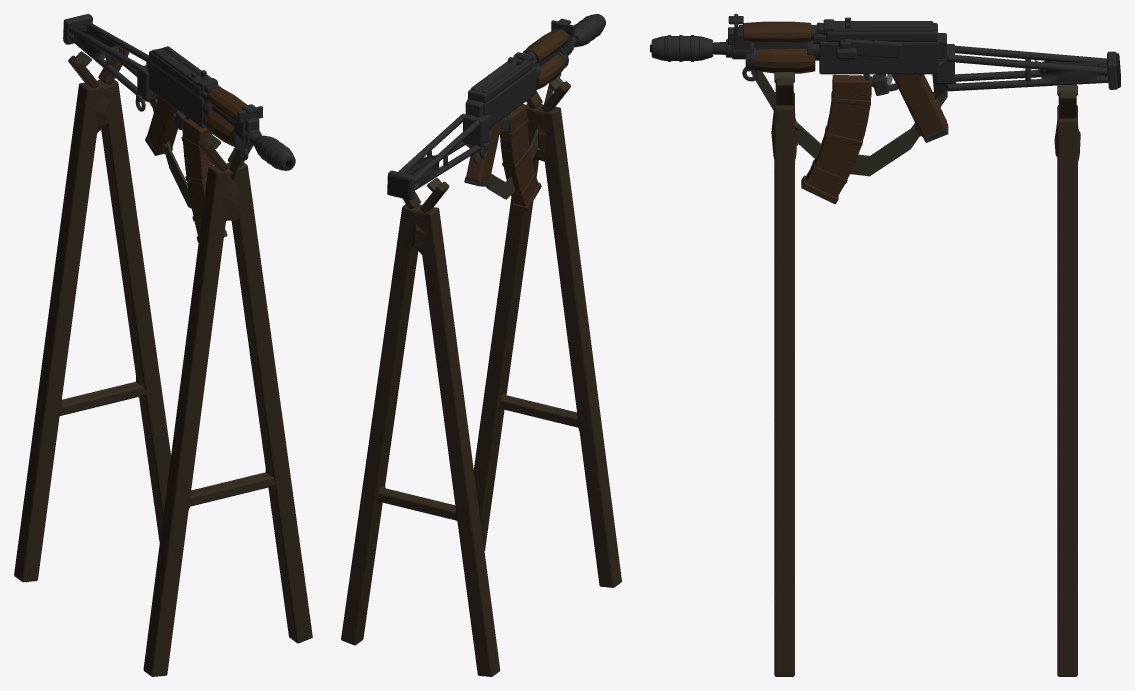
The model's file is carbine_e.glb.
3 renders of one model, left to right at view 1: azimuth 30°, elevation 25°; view 2: azimuth 150°, elevation 25°; view 3: azimuth 270°, elevation 25°, orthographic. The views are drawn at different scales.
Parts seen in each view (by area): view 1: L0_00_hull_opaque, L2_02_hull_opaque, L1_01_hull_opaque; view 2: L0_00_hull_opaque, L2_02_hull_opaque, L1_01_hull_opaque; view 3: L0_00_hull_opaque, L2_02_hull_opaque, L1_01_hull_opaque.
Boxes of the visible parts, box(x1,y1,x2,y2) form: L0_00_hull_opaque: box(14, 14, 312, 676); L2_02_hull_opaque: box(15, 81, 312, 673); L1_01_hull_opaque: box(19, 23, 307, 673); L0_00_hull_opaque: box(341, 14, 621, 676); L2_02_hull_opaque: box(371, 105, 620, 675); L1_01_hull_opaque: box(342, 37, 611, 673); L0_00_hull_opaque: box(650, 14, 1120, 676); L2_02_hull_opaque: box(771, 101, 1080, 676); L1_01_hull_opaque: box(714, 23, 1107, 644).
Size of the model in its own units: 0.2989 by 1 by 0.6905.
